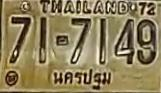1: (38, 16, 46, 64), (98, 18, 106, 64)
4: (113, 18, 134, 63)
7: (9, 16, 30, 63), (70, 17, 90, 63)
9: (136, 18, 156, 64)
NPT: (51, 66, 113, 91)
